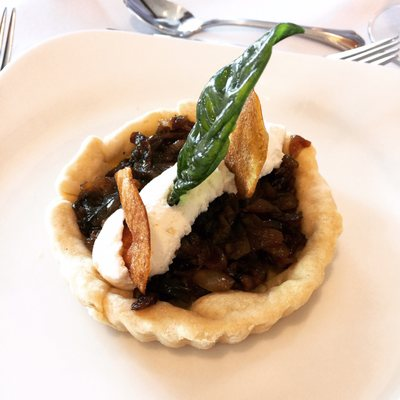salad: (122, 0, 278, 39)
soup: (44, 23, 343, 352)
